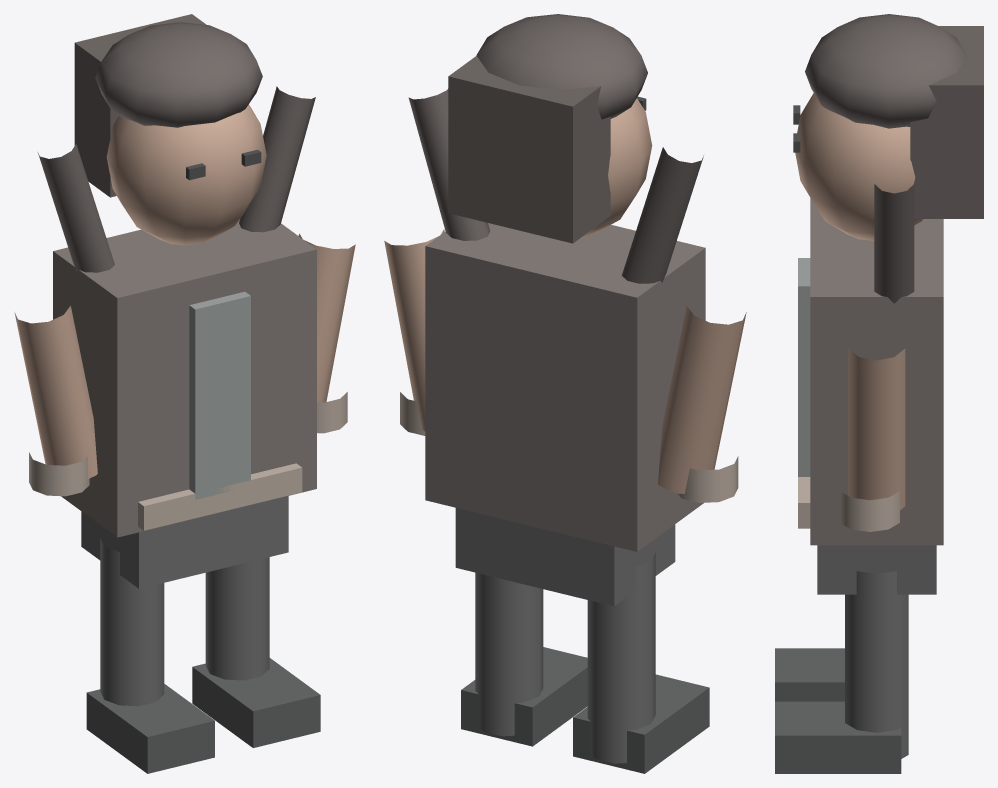
File: sevika.glb
The picture shows the model from 3 angles, left to right: view 1: azimuth 30°, elevation 25°; view 2: azimuth 150°, elevation 25°; view 3: azimuth 270°, elevation 25°; orthographic projection. The views are drawn at different scales.
Parts seen in each view (by area): view 1: Torso, Head, HairCap, Vest, Pelvis, ArmL, LegL, FootR, FootL, LegR, HairBack, HairR (+5 smaller); view 2: Torso, HairBack, Pelvis, HairCap, LegL, ArmL, LegR, FootL, HairL, FootR, ArmR, Head (+3 smaller); view 3: Torso, HairCap, Head, HairBack, LegR, ArmR, FootR, Pelvis, HairR, FootL, Vest, CuffR (+1 smaller).
Part boxes in pixels (bbox=[...]): Torso: bbox=[53, 219, 316, 537]; Head: bbox=[106, 104, 266, 245]; HairCap: bbox=[95, 22, 262, 127]; Vest: bbox=[189, 291, 250, 499]; Pelvis: bbox=[81, 496, 288, 588]; ArmL: bbox=[14, 306, 97, 478]; LegL: bbox=[100, 539, 164, 706]; FootR: bbox=[192, 658, 320, 747]; FootL: bbox=[86, 684, 214, 773]; LegR: bbox=[205, 557, 269, 680]; HairBack: bbox=[74, 14, 206, 197]; HairR: bbox=[239, 86, 315, 232]; Torso: bbox=[425, 223, 705, 551]; HairBack: bbox=[448, 56, 610, 243]; Pelvis: bbox=[455, 508, 675, 606]; HairCap: bbox=[476, 14, 647, 119]; LegL: bbox=[587, 553, 655, 763]; ArmL: bbox=[658, 306, 746, 493]; LegR: bbox=[475, 572, 543, 736]; FootL: bbox=[573, 674, 709, 773]; HairL: bbox=[622, 147, 703, 283]; FootR: bbox=[461, 647, 587, 746]; ArmR: bbox=[384, 229, 444, 431]; Head: bbox=[581, 98, 652, 237]; Torso: bbox=[810, 198, 943, 545]; HairCap: bbox=[805, 14, 967, 128]; Head: bbox=[795, 93, 922, 240]; HairBack: bbox=[910, 26, 983, 218]; LegR: bbox=[845, 571, 908, 758]; ArmR: bbox=[848, 348, 905, 510]; FootR: bbox=[775, 701, 901, 773]; Pelvis: bbox=[817, 545, 936, 594]; HairR: bbox=[874, 184, 914, 303]; FootL: bbox=[775, 648, 844, 701]; Vest: bbox=[798, 258, 810, 476]; CuffR: bbox=[839, 491, 899, 531].
Bounding box in the file's own units: 1.14 × 2.21 × 0.595.
